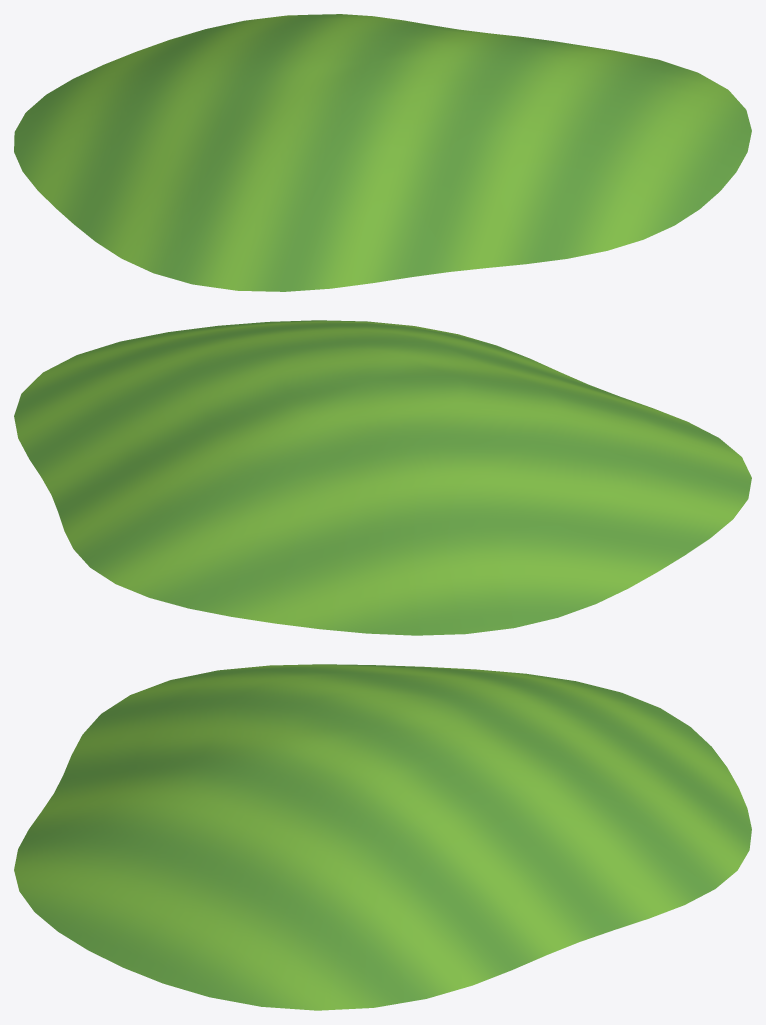
File: ISL-L_LOD1_Grass.fbx
3 renders of one model, top to bottom at view 1: azimuth 30°, elevation 25°; view 2: azimuth 150°, elevation 25°; view 3: azimuth 270°, elevation 25°, orthographic. The views are drawn at different scales.
Visible parts, largest first — view 1: ISL-L_LOD1_Grass; view 2: ISL-L_LOD1_Grass; view 3: ISL-L_LOD1_Grass.
Boxes of the visible parts, left/top/right/bottom form: ISL-L_LOD1_Grass: left=14, top=14, right=751, bottom=291; ISL-L_LOD1_Grass: left=14, top=320, right=751, bottom=635; ISL-L_LOD1_Grass: left=14, top=664, right=751, bottom=1010.
Bounding box in the file's own units: 151 × 136 × 20.8.
